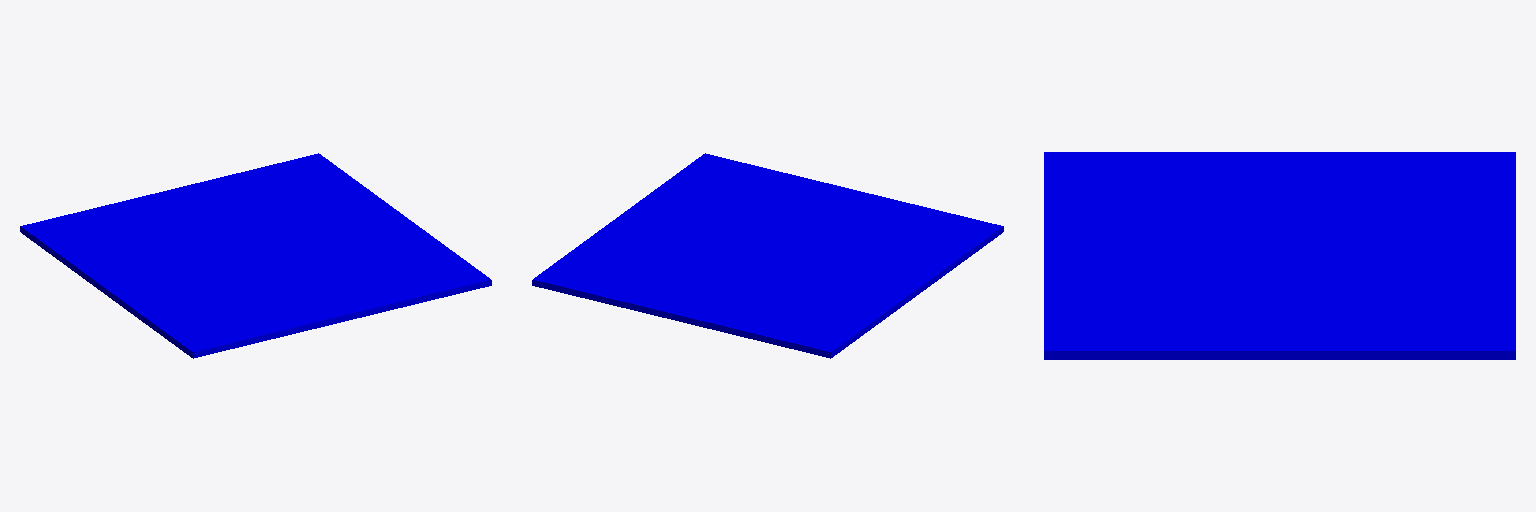
URDF robot description (button):
<?xml version="0.0"?>
<robot name="button">
  <link name="base">
    <visual>
      <origin rpy="0 0 0" xyz="0 0 0.0005"/>
      <!--origin rpy="0 0 0" xyz="0 0 0.0025"/-->
      <material name="blue">
        <color rgba="0 0 1 1"/>
      </material>
      <geometry>
        <box size="0.05 0.05 0.001" />
        <!--box size="0.05 0.05 0.005" /-->
      </geometry>
    </visual>
    <collision>
      <origin rpy="0 0 0" xyz="0 0 0.0005"/>
      <!--origin rpy="0 0 0" xyz="0 0 0.0025"/-->
      <geometry>
        <box size="0.05 0.05 0.001" />
        <!--box size="0.05 0.05 0.005" /-->
      </geometry>
    </collision>
  </link>
</robot>

--- What the picture shows (computed from the rendered views, not written in the file) ---
The picture shows the robot from 3 angles, left to right: view 1: azimuth 30°, elevation 25°; view 2: azimuth 150°, elevation 25°; view 3: azimuth 270°, elevation 25°; orthographic projection.
Model button with 1 links and 0 joints (none), rooted at base, posed all joints at 0.
Visible links, largest first — view 1: base; view 2: base; view 3: base.
Link boxes in pixels (box(x1,y1,x2,y2)): base: box(20, 153, 491, 358); base: box(532, 153, 1003, 358); base: box(1044, 152, 1515, 359).
Size in the robot's own frame: 0.05 by 0.05 by 0.001 metres.
Geometry: primitives only (box / cylinder / sphere), no mesh files.